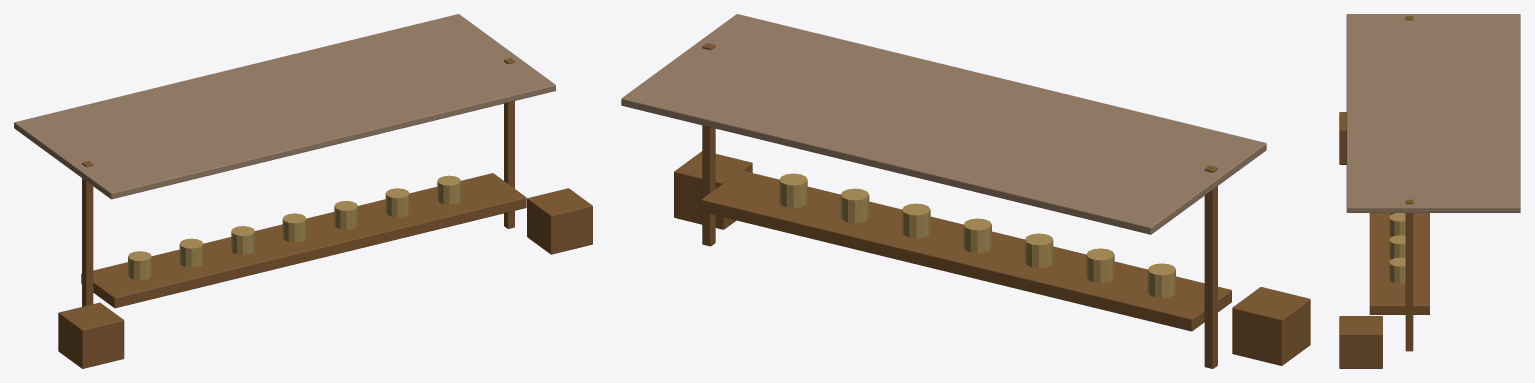
The model's file is facility_shop.glb.
3 views of the same model, side by side, from view 1: azimuth 30°, elevation 25°; view 2: azimuth 150°, elevation 25°; view 3: azimuth 270°, elevation 25° (orthographic). The views are drawn at different scales.
Parts seen in each view (by area): view 1: Props; view 2: Props; view 3: Props.
Boxes of the visible parts, x1=… form: Props: x1=14, y1=14, x2=592, y2=368; Props: x1=621, y1=14, x2=1310, y2=368; Props: x1=1339, y1=14, x2=1520, y2=368.
Bounding box in the file's own units: 10.9 × 3.4 × 3.75.
